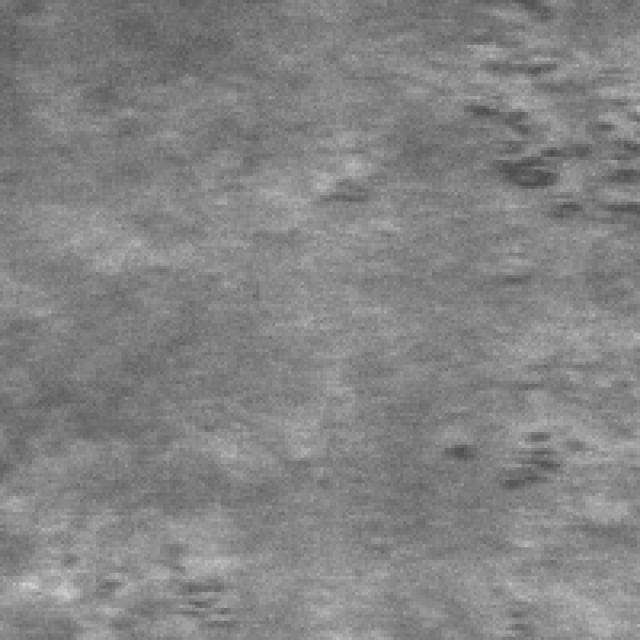rolled-in_scale: (419, 6, 637, 272), (0, 512, 256, 637), (422, 400, 634, 496)
